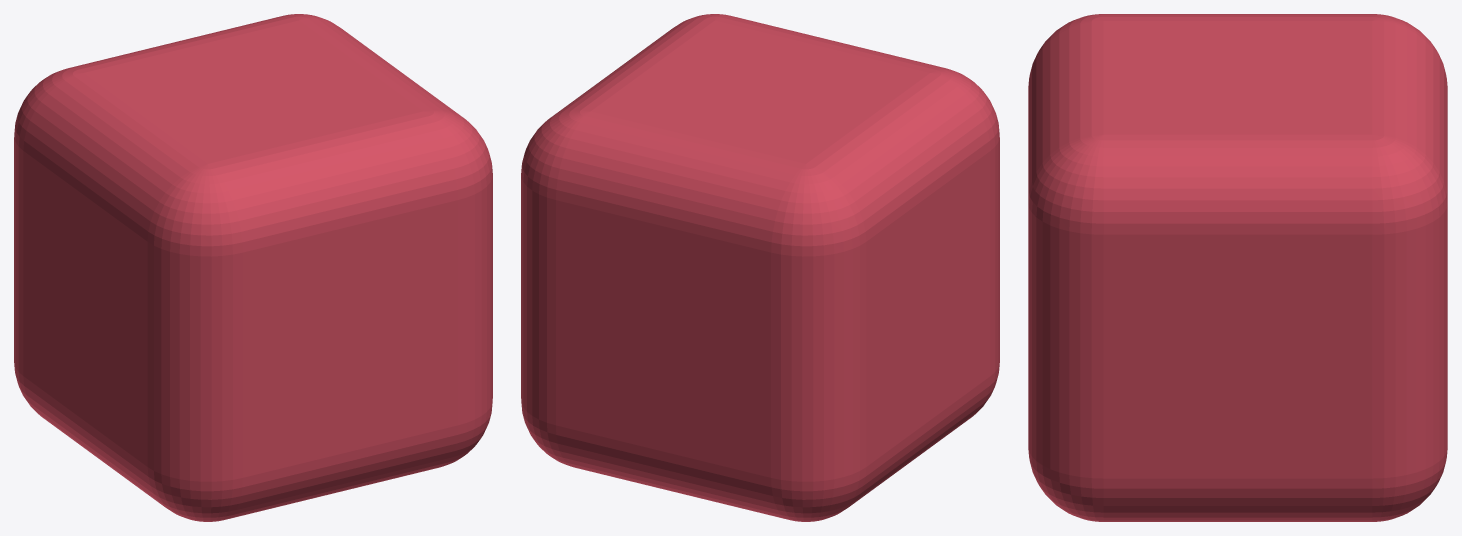
The model's file is Copy of Magnificent Amberis.glb.
3 renders of one model, left to right at view 1: azimuth 30°, elevation 25°; view 2: azimuth 150°, elevation 25°; view 3: azimuth 270°, elevation 25°, orthographic. The views are drawn at different scales.
Parts seen in each view (by area): view 1: Mesh_Mesh_head_geo.001_lambert2SG.001; view 2: Mesh_Mesh_head_geo.001_lambert2SG.001; view 3: Mesh_Mesh_head_geo.001_lambert2SG.001.
Boxes of the visible parts, box(x1,y1,x2,y2) form: Mesh_Mesh_head_geo.001_lambert2SG.001: box(14, 14, 492, 521); Mesh_Mesh_head_geo.001_lambert2SG.001: box(521, 14, 999, 521); Mesh_Mesh_head_geo.001_lambert2SG.001: box(1028, 14, 1447, 521).
Bounding box in the file's own units: 0.04 × 0.04 × 0.04.
